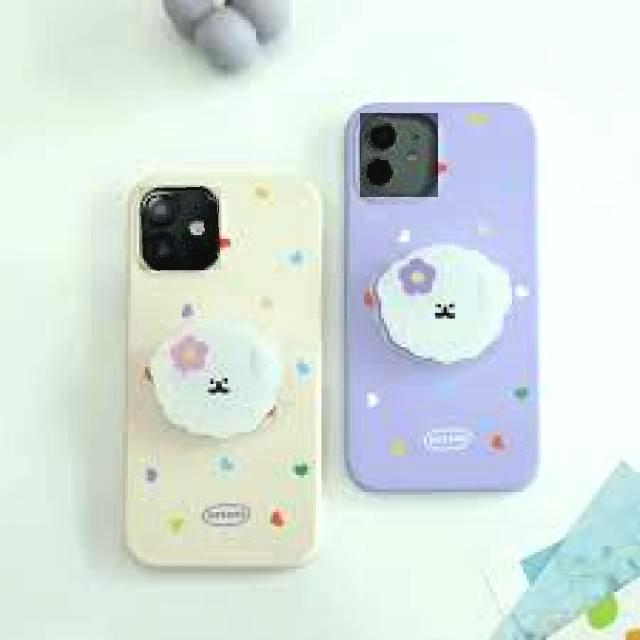lens: (139, 187, 221, 270), (360, 113, 438, 197)
phone: (338, 93, 547, 498), (124, 172, 328, 573)
